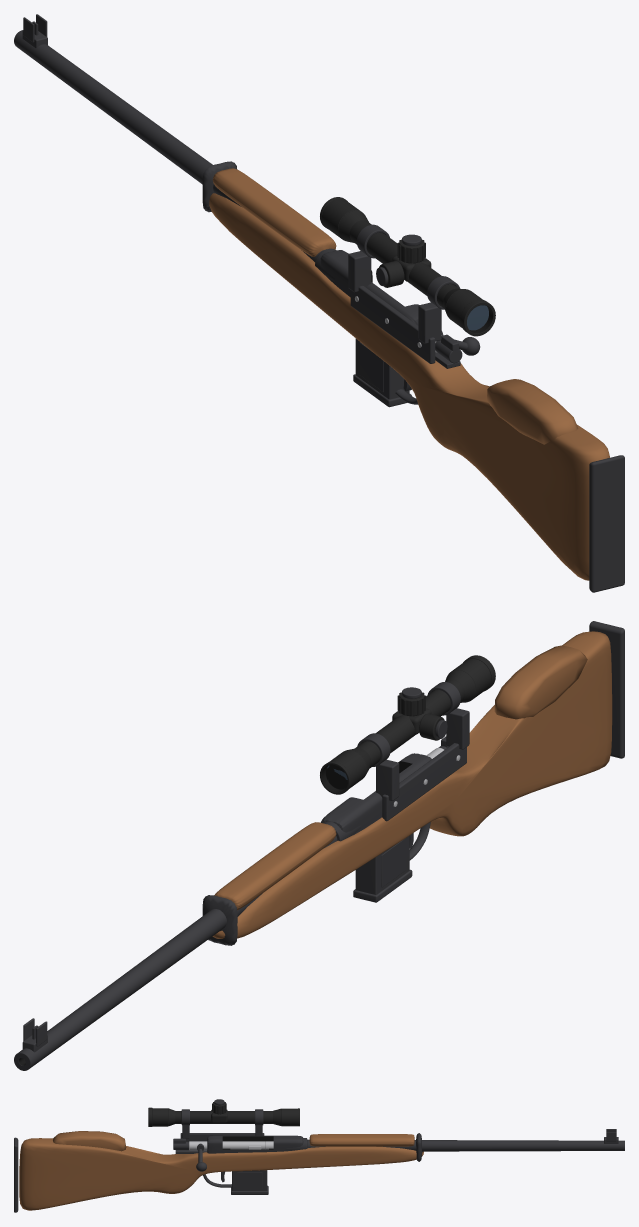
The picture shows the model from 3 angles, top to bottom: view 1: azimuth 30°, elevation 25°; view 2: azimuth 150°, elevation 25°; view 3: azimuth 270°, elevation 25°; orthographic projection. The views are drawn at different scales.
Visible parts, largest first — view 1: receiver, mag, bolt; view 2: receiver, mag; view 3: receiver, bolt, mag.
Boxes of the visible parts, box(x1,y1,x2,y2) form: receiver: box(14, 14, 624, 592); mag: box(353, 338, 412, 407); bolt: box(435, 331, 480, 363); receiver: box(14, 621, 624, 1070); mag: box(353, 836, 412, 902); receiver: box(14, 1099, 624, 1212); bolt: box(173, 1138, 273, 1171); mag: box(231, 1170, 268, 1194).
Bounding box in the file's own units: 0.0932 × 0.2273 × 1.17.
